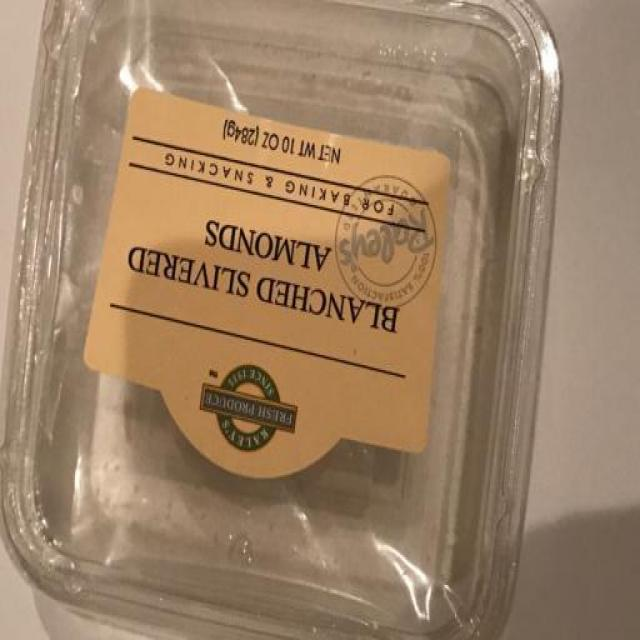plastic_bag: (11, 5, 563, 635)
